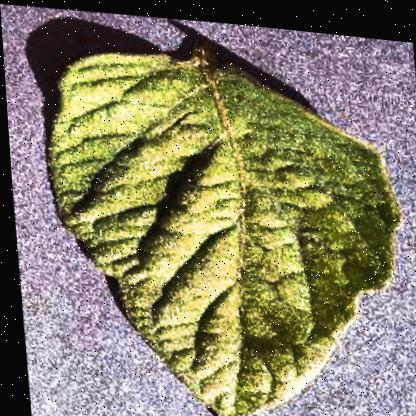Healthy: (28, 15, 415, 415)
